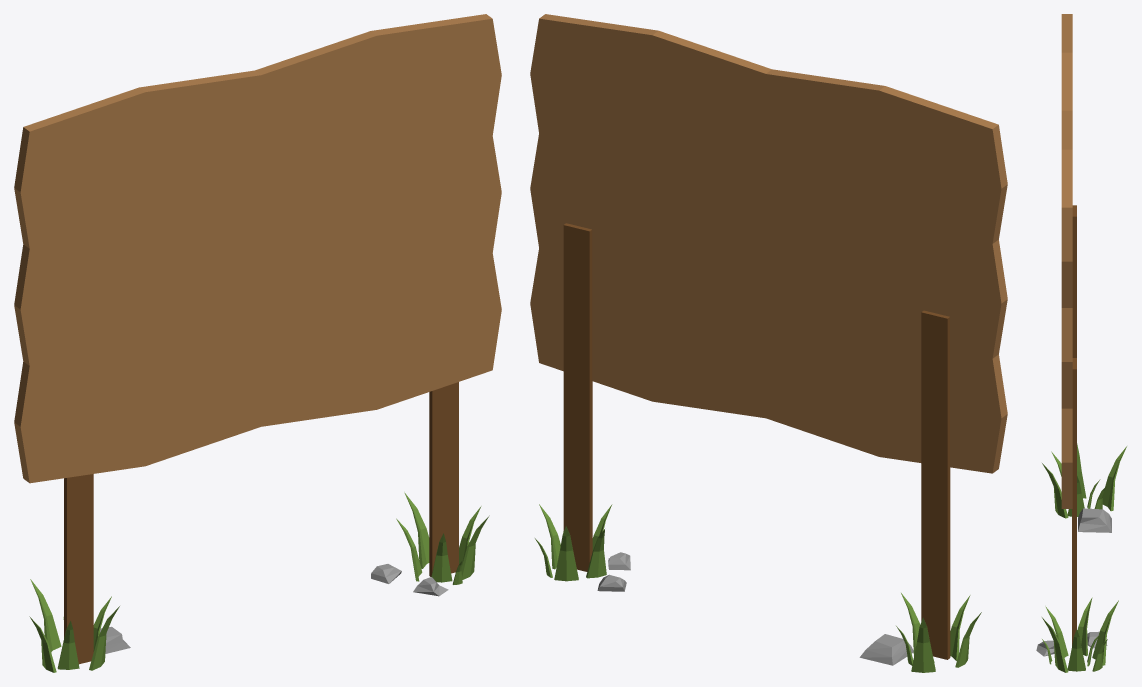
File: BigSign.fbx
3 renders of one model, left to right at view 1: azimuth 30°, elevation 25°; view 2: azimuth 150°, elevation 25°; view 3: azimuth 270°, elevation 25°, orthographic. The views are drawn at different scales.
Parts seen in each view (by area): view 1: Tabela, BuyukTabela, 3-Çimen, Taş; view 2: Tabela, BuyukTabela, 3-Çimen, Taş; view 3: Tabela, 3-Çimen, BuyukTabela, Taş.
Boxes of the visible parts, bbox=[...] form: Tabela: bbox=[14, 14, 501, 483]; BuyukTabela: bbox=[64, 382, 458, 664]; 3-Çimen: bbox=[29, 492, 489, 672]; Taş: bbox=[100, 564, 448, 653]; Tabela: bbox=[530, 14, 1007, 473]; BuyukTabela: bbox=[563, 223, 950, 659]; 3-Çimen: bbox=[535, 504, 981, 672]; Taş: bbox=[597, 552, 913, 665]; Tabela: bbox=[1061, 14, 1072, 508]; 3-Çimen: bbox=[1042, 443, 1126, 672]; BuyukTabela: bbox=[1072, 205, 1076, 645]; Taş: bbox=[1036, 508, 1111, 656].
Size of the model in its own units: 2.86 by 3.2 by 0.5488.
